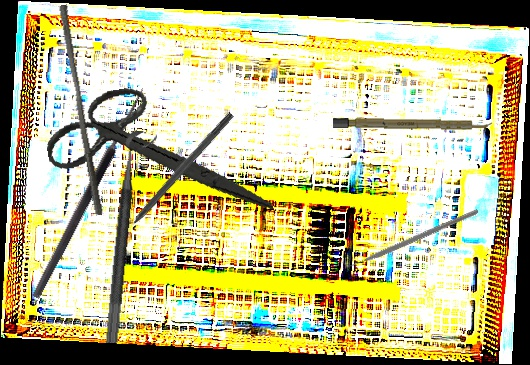Chopper: (339, 162, 479, 311)
Fixation Ring: (104, 129, 158, 346)
Hook Surgical: (20, 80, 149, 301), (115, 110, 235, 242)
Iris Scissors: (39, 66, 273, 246)
Pusher: (51, 4, 112, 216)
Scalpel Handle: (332, 117, 493, 131)
